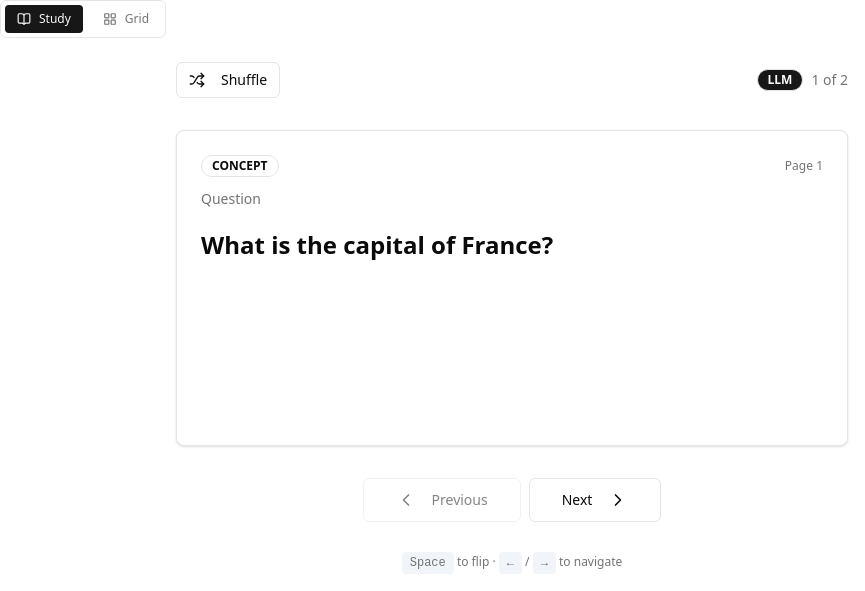
Test: FlashcardList › navigates to next card in study mode
The width and height of the screenshot is (865, 591).
Step 1. Click the button "Next" → (595, 500), box [529,478,661,522]
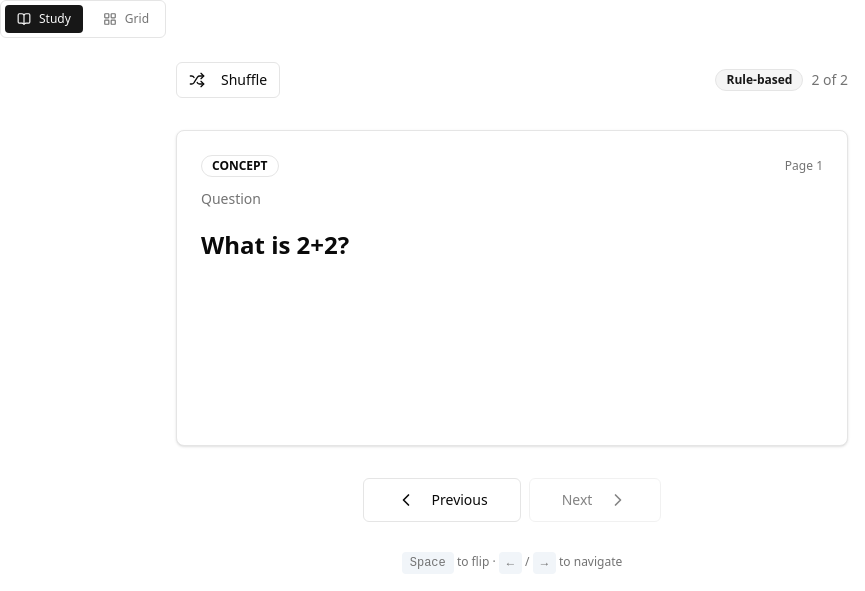
Result: the text "What is 2+2?" is shown at [201,228,349,261]
